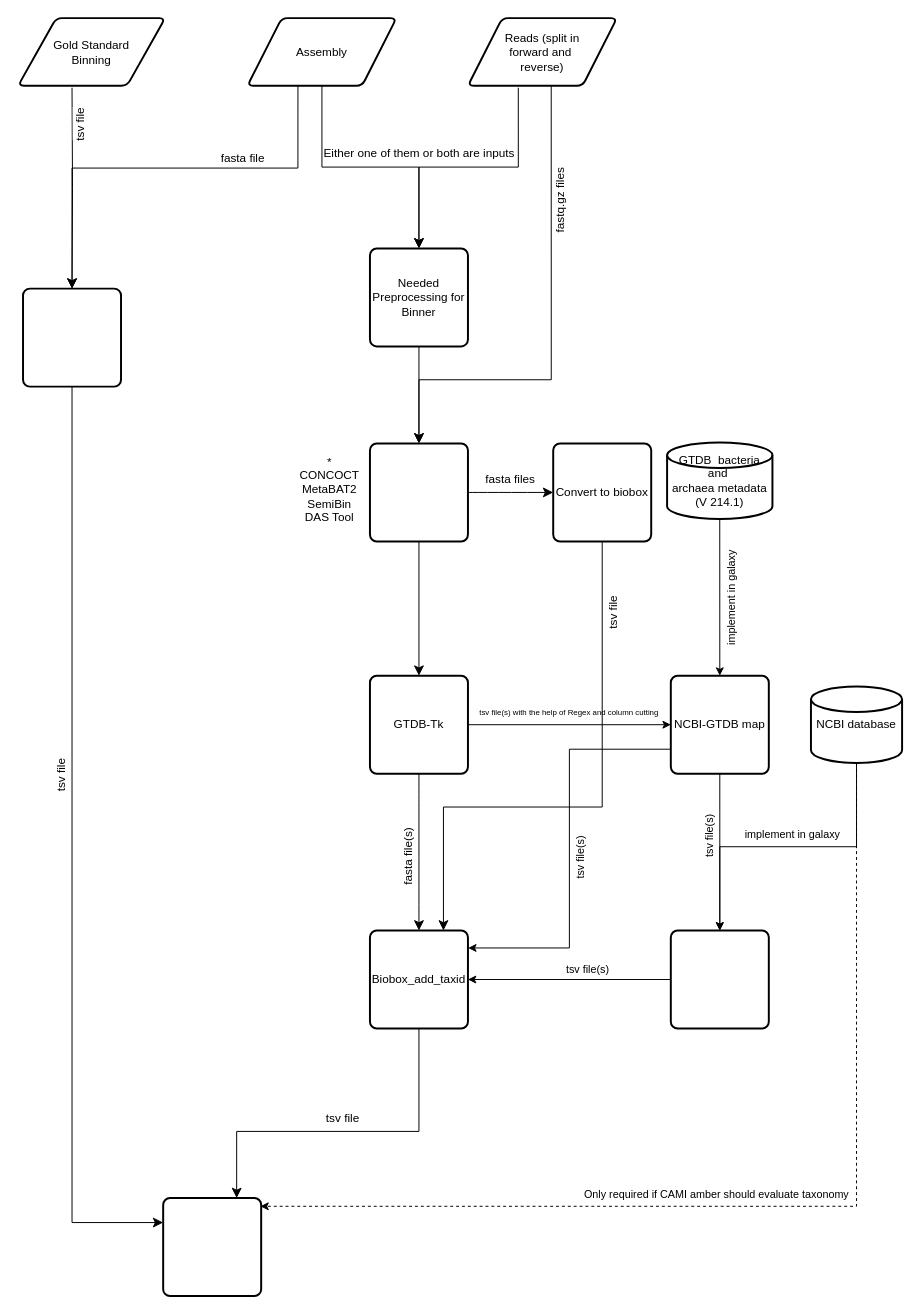
Image size: 919x1313. Some labels were removed from this diagram. Here are the shapes that lost their labels. From the top down, the centre of each, then its label:
At point (72, 337): "AMBER add length column".
At point (418, 492): "Binner*".
At point (719, 979): "name2taxid".
At point (212, 1247): "CAMI Amber".
At point (308, 1266): "Can use multiple Binners as input".
